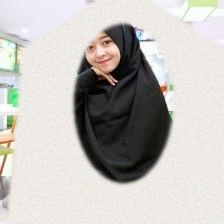Mukena: (11, 29, 224, 224)
